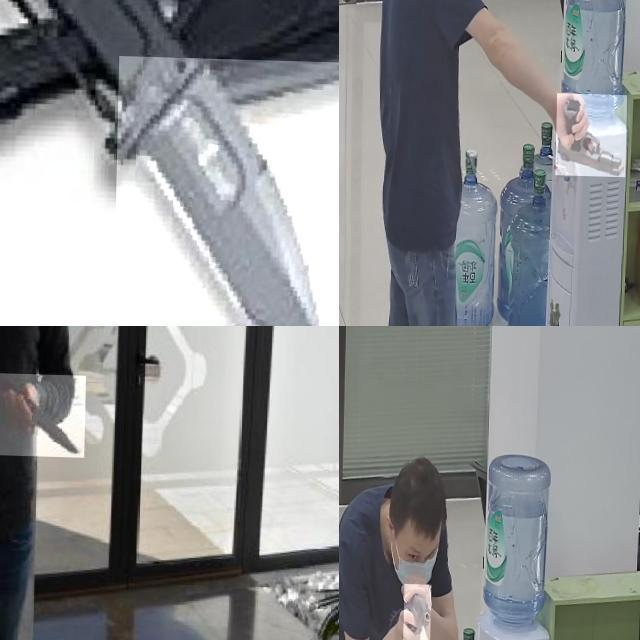-: (115, 54, 339, 326), (0, 371, 87, 455)
gun-knife-thesis - v11 Yolov5 augmented: (557, 90, 629, 174), (404, 581, 432, 640)
